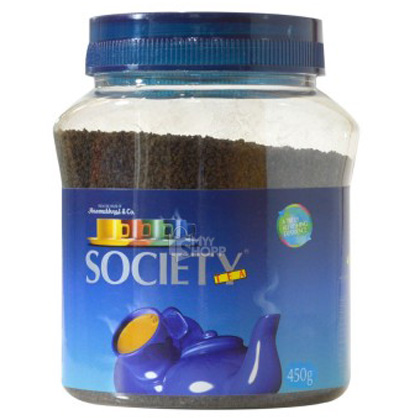society: (55, 178, 357, 397)
